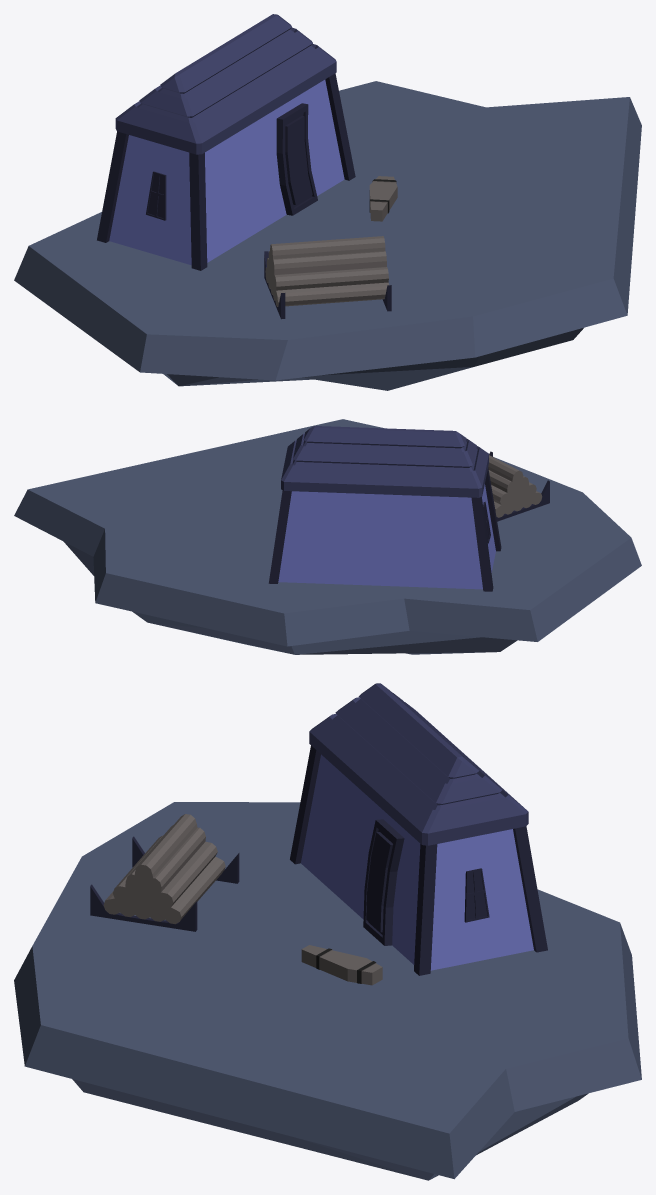
Rendered from Лесопилка с домом .fbx.
3 renders of one model, top to bottom at view 1: azimuth 30°, elevation 25°; view 2: azimuth 150°, elevation 25°; view 3: azimuth 270°, elevation 25°, orthographic. The views are drawn at different scales.
Parts seen in each view (by area): view 1: Cube.070, Cube.071, Circle.016, Cube.072, Cube.073, Cube.077, Cube.025; view 2: Cube.070, Cube.071, Cube.072, Circle.016, Cube.067; view 3: Cube.070, Cube.071, Circle.016, Cube.072, Cube.073, Cube.077, Cube.067, Cube.025.
Part boxes in pixels (x1,y1,x2,y2): Cube.070: (14,81,641,390); Cube.071: (109,14,344,265); Circle.016: (265,236,388,306); Cube.072: (97,73,355,270); Cube.073: (276,103,317,215); Cube.077: (369,176,397,221); Cube.025: (146,171,166,220); Cube.070: (14,419,641,654); Cube.071: (278,426,495,589); Cube.072: (268,467,501,591); Circle.016: (488,455,542,517); Cube.067: (489,451,549,521); Cube.070: (14,802,641,1180); Cube.071: (301,683,533,970); Circle.016: (103,814,225,924); Cube.072: (290,745,547,975); Cube.073: (363,819,404,945); Cube.077: (301,945,382,985); Cube.067: (90,836,239,931); Cube.025: (464,868,489,922).
Size of the model in its own units: 727 by 331 by 559.
